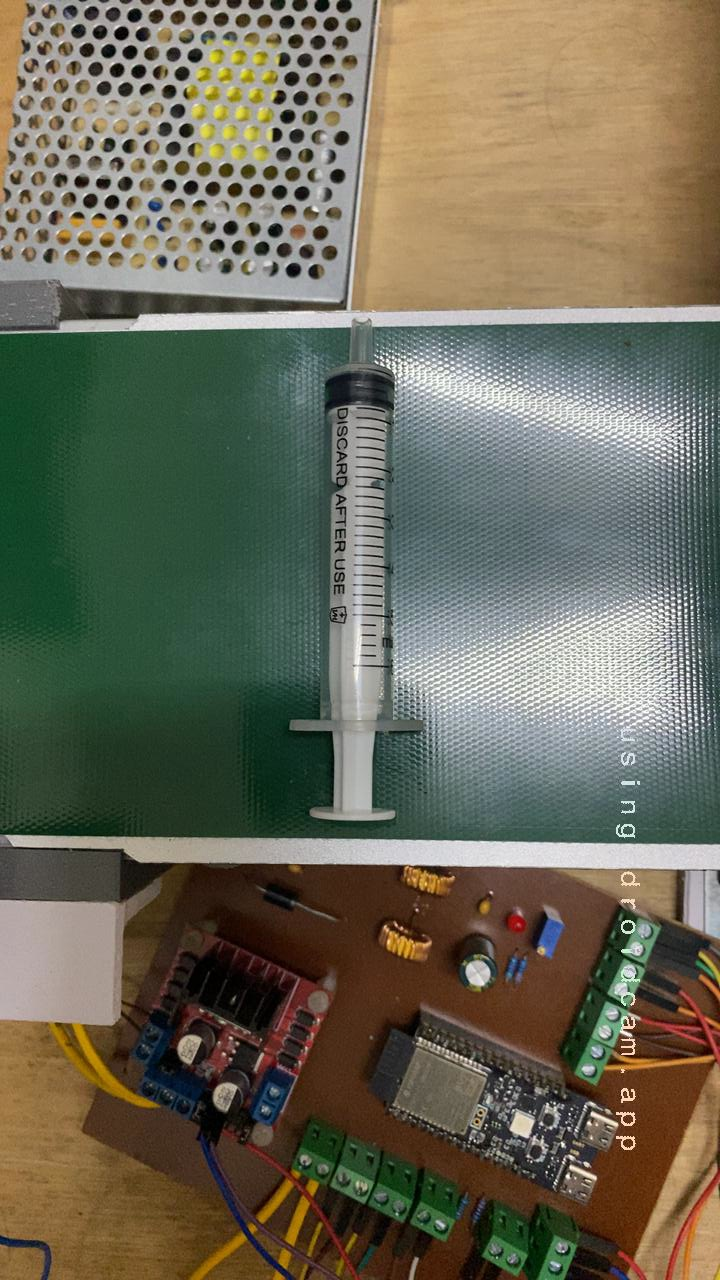syringe: (236, 352, 478, 839)
